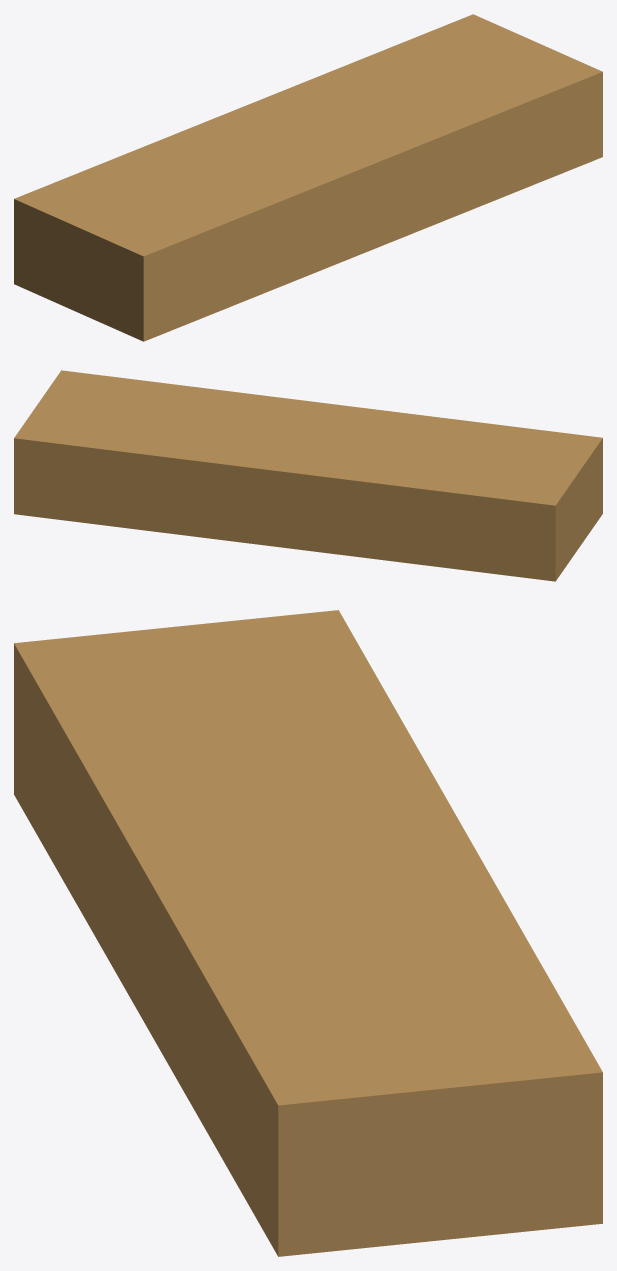
3 views of the same model, one above another, from view 1: azimuth 30°, elevation 25°; view 2: azimuth 150°, elevation 25°; view 3: azimuth 270°, elevation 25° (orthographic). The views are drawn at different scales.
Visible parts, largest first — view 1: RUN-018-S03-NOG-01; view 2: RUN-018-S03-NOG-01; view 3: RUN-018-S03-NOG-01.
Part boxes in pixels (bbox=[...]): RUN-018-S03-NOG-01: bbox=[14, 14, 602, 341]; RUN-018-S03-NOG-01: bbox=[14, 370, 602, 581]; RUN-018-S03-NOG-01: bbox=[14, 610, 602, 1256].
Size of the model in its own units: 0.3159 by 0.045 by 0.1587.
